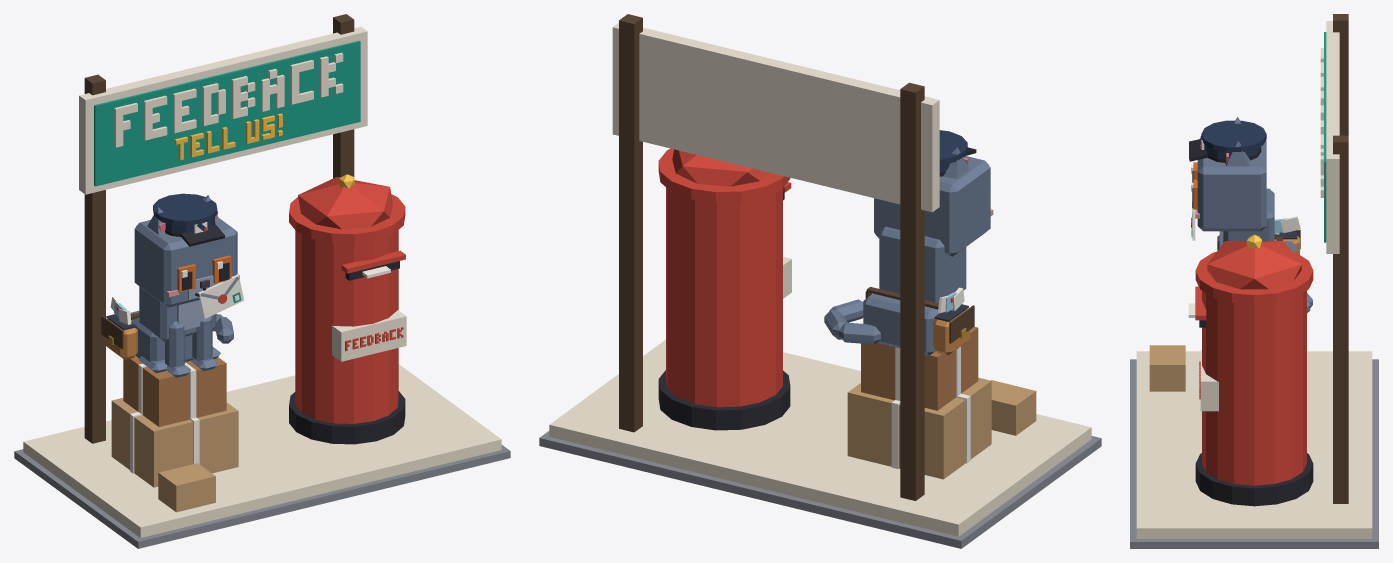
The model's file is CatCafe_Town_FeedbackStand.glb.
The picture shows the model from 3 angles, left to right: view 1: azimuth 30°, elevation 25°; view 2: azimuth 150°, elevation 25°; view 3: azimuth 270°, elevation 25°; orthographic projection. The views are drawn at different scales.
Parts seen in each view (by area): view 1: CatCafe_Town_FeedbackStand, CatCafe_Town_FeedbackStand_Cat_Head, CatCafe_Town_FeedbackStand_Cat_Body, CatCafe_Town_FeedbackStand_Cat_Prop, CatCafe_Town_FeedbackStand_Cat_Prop2, CatCafe_Town_FeedbackStand_Cat_LegF2, CatCafe_Town_FeedbackStand_Cat_LegF1; view 2: CatCafe_Town_FeedbackStand, CatCafe_Town_FeedbackStand_Cat_Body, CatCafe_Town_FeedbackStand_Cat_Head, CatCafe_Town_FeedbackStand_Cat_Tail, CatCafe_Town_FeedbackStand_Cat_Prop; view 3: CatCafe_Town_FeedbackStand, CatCafe_Town_FeedbackStand_Cat_Head, CatCafe_Town_FeedbackStand_Cat_Prop, CatCafe_Town_FeedbackStand_Cat_Body, CatCafe_Town_FeedbackStand_Cat_EarL.
Boxes of the visible parts, x1,y1,x2,y2 form: CatCafe_Town_FeedbackStand: [14, 14, 510, 548]; CatCafe_Town_FeedbackStand_Cat_Head: [134, 218, 239, 307]; CatCafe_Town_FeedbackStand_Cat_Body: [101, 286, 220, 373]; CatCafe_Town_FeedbackStand_Cat_Prop: [153, 193, 225, 246]; CatCafe_Town_FeedbackStand_Cat_Prop2: [198, 274, 244, 318]; CatCafe_Town_FeedbackStand_Cat_LegF2: [165, 321, 190, 377]; CatCafe_Town_FeedbackStand_Cat_LegF1: [191, 316, 218, 370]; CatCafe_Town_FeedbackStand: [539, 14, 1101, 548]; CatCafe_Town_FeedbackStand_Cat_Body: [863, 226, 974, 355]; CatCafe_Town_FeedbackStand_Cat_Head: [874, 156, 993, 256]; CatCafe_Town_FeedbackStand_Cat_Tail: [824, 299, 880, 344]; CatCafe_Town_FeedbackStand_Cat_Prop: [939, 130, 976, 176]; CatCafe_Town_FeedbackStand: [1130, 14, 1378, 548]; CatCafe_Town_FeedbackStand_Cat_Head: [1195, 138, 1266, 231]; CatCafe_Town_FeedbackStand_Cat_Prop: [1189, 120, 1266, 162]; CatCafe_Town_FeedbackStand_Cat_Body: [1219, 188, 1300, 254]; CatCafe_Town_FeedbackStand_Cat_EarL: [1225, 141, 1250, 166].
Bounding box in the file's own units: 6.6 × 6.4 × 3.8.
1 material, 1 textured.
